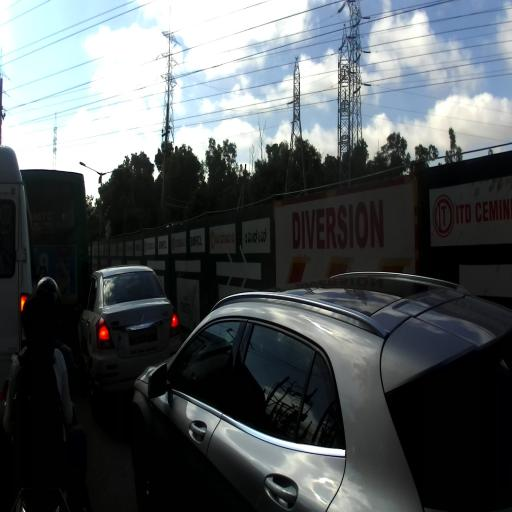street_light_0: (79, 162, 102, 184), (98, 168, 125, 184)
